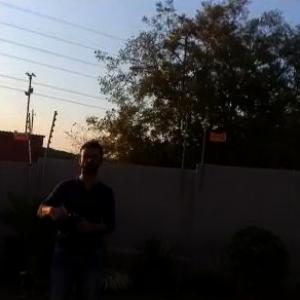follow: (33, 135, 123, 299)
